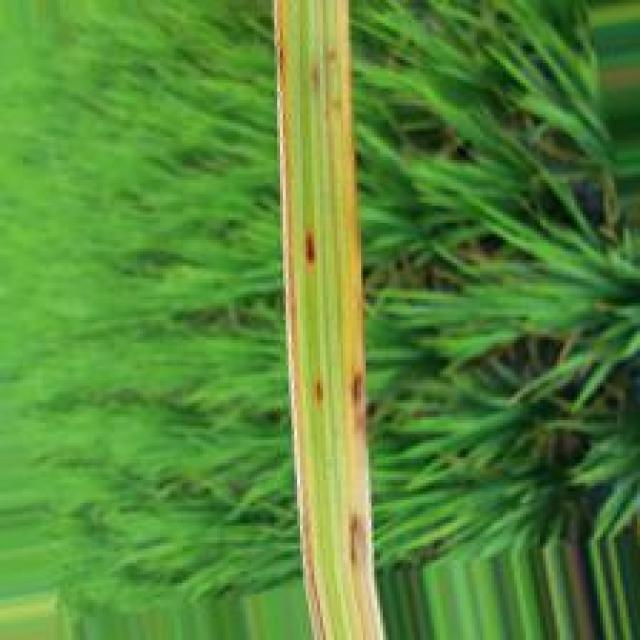Brown_Spot: (346, 509, 371, 574), (349, 370, 365, 448), (277, 33, 290, 97), (303, 226, 318, 276), (313, 376, 330, 413)
